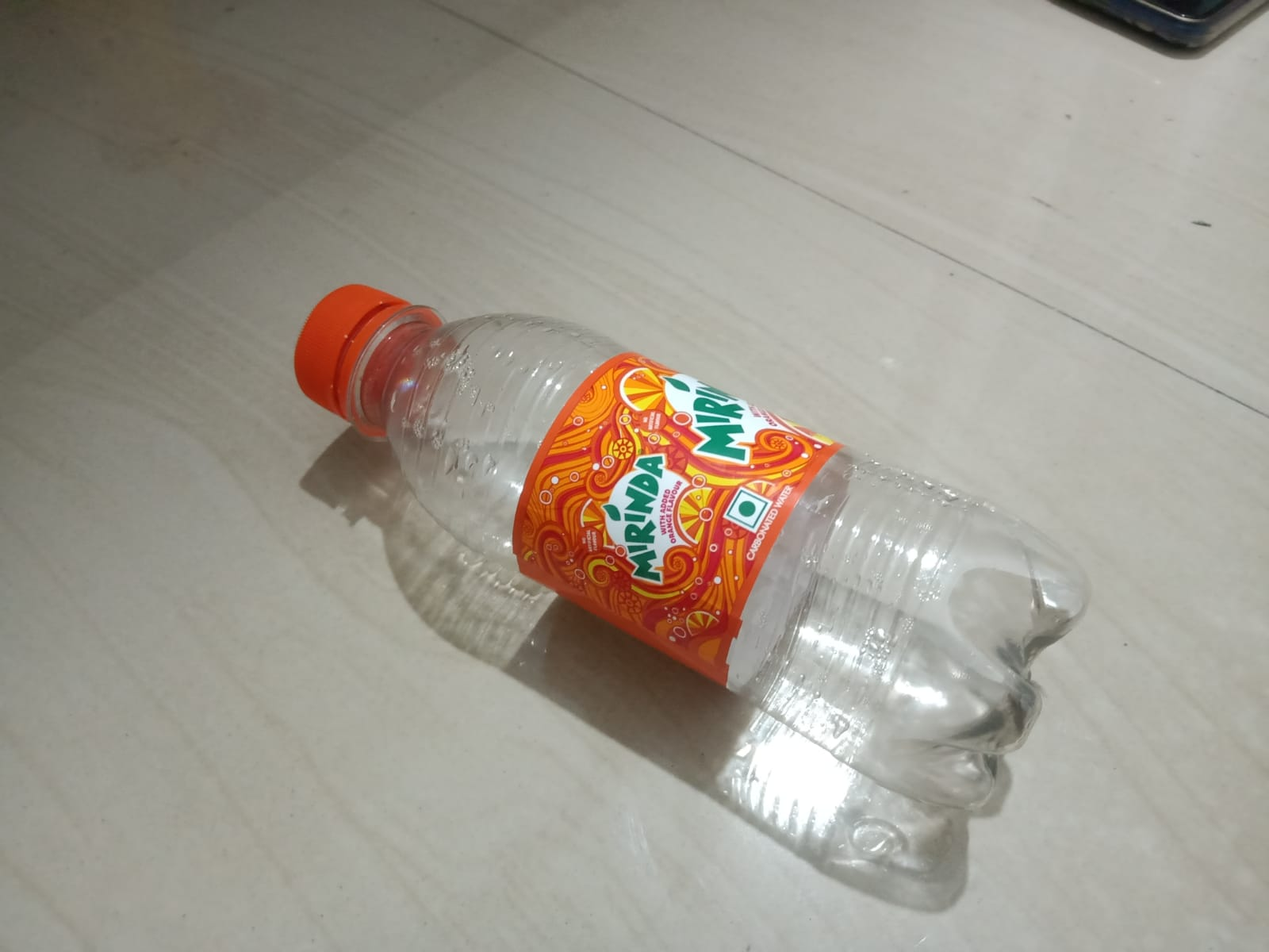plastic: (207, 219, 1113, 824)
